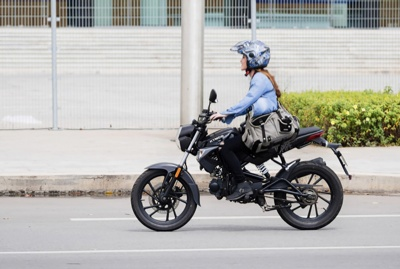helmet: (230, 36, 275, 77)
